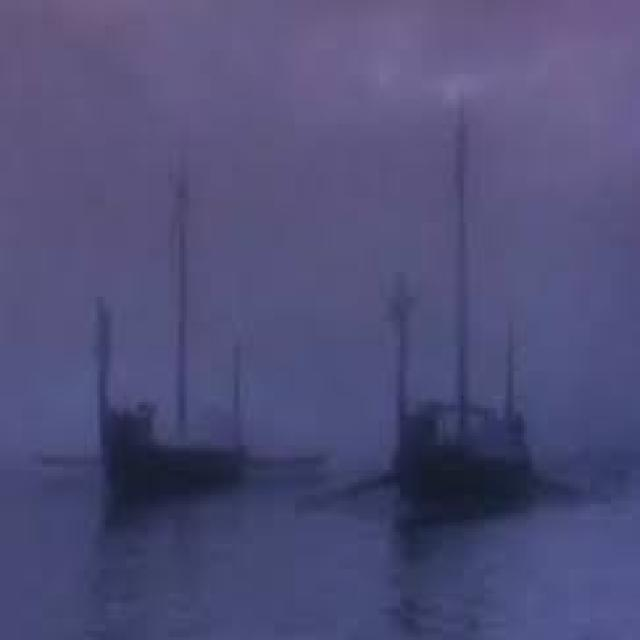fishing boat: (332, 116, 536, 506), (75, 180, 236, 494)
